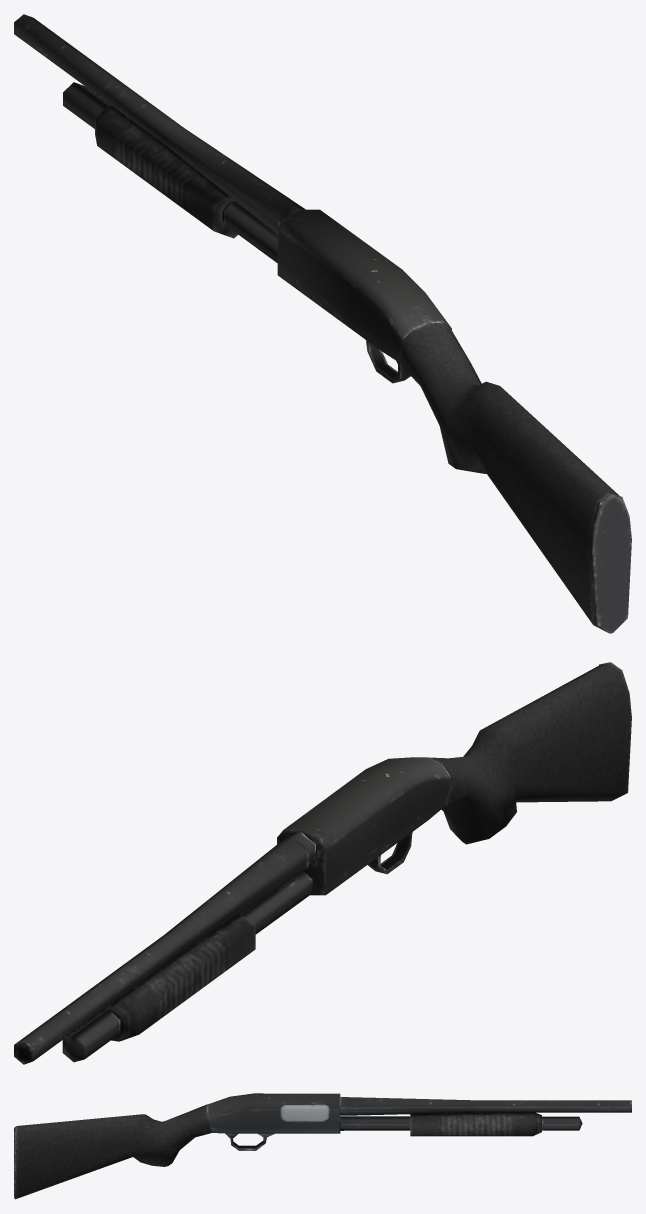
The model's file is Mossberg_Plastic_Black.fbx.
The picture shows the model from 3 angles, top to bottom: view 1: azimuth 30°, elevation 25°; view 2: azimuth 150°, elevation 25°; view 3: azimuth 270°, elevation 25°; orthographic projection. The views are drawn at different scales.
Visible parts, largest first — view 1: Mossberg_Plastic_Black; view 2: Mossberg_Plastic_Black; view 3: Mossberg_Plastic_Black.
Boxes of the visible parts, x1,y1,x2,y2 form: Mossberg_Plastic_Black: (14, 14, 631, 633); Mossberg_Plastic_Black: (14, 662, 631, 1064); Mossberg_Plastic_Black: (14, 1093, 631, 1199).
Bounding box in the file's own units: 0.0281 × 0.5749 × 0.1064.
